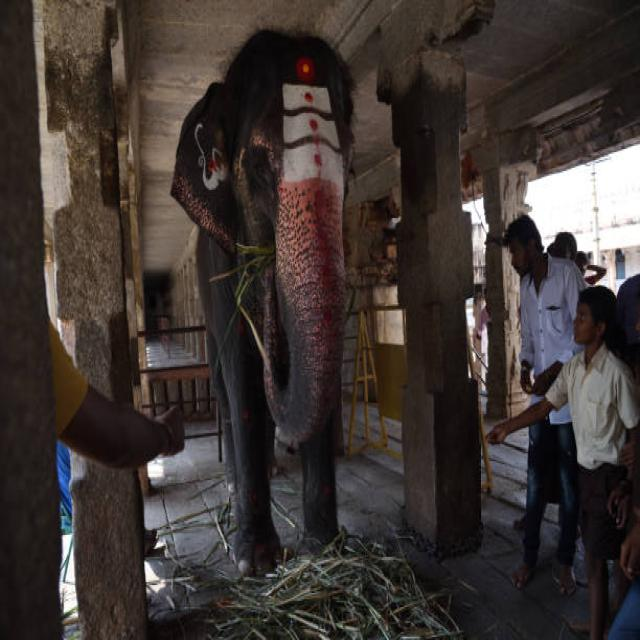Elephant: (170, 21, 375, 558)
